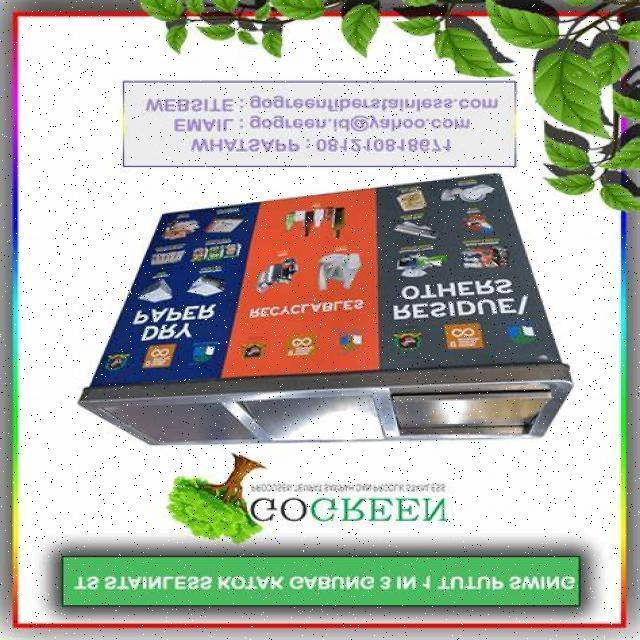garbage container: (65, 172, 592, 463)
